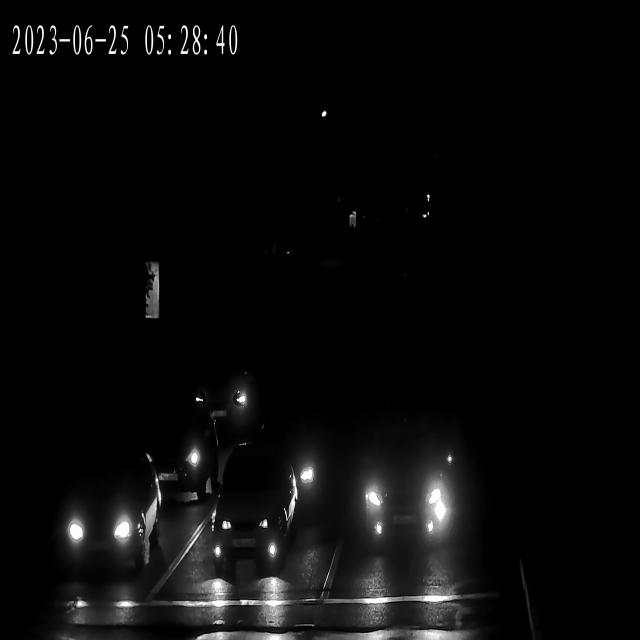Car: (363, 418, 458, 560), (58, 454, 156, 587), (212, 451, 296, 574), (134, 392, 217, 498), (282, 396, 342, 511), (205, 358, 263, 432)
